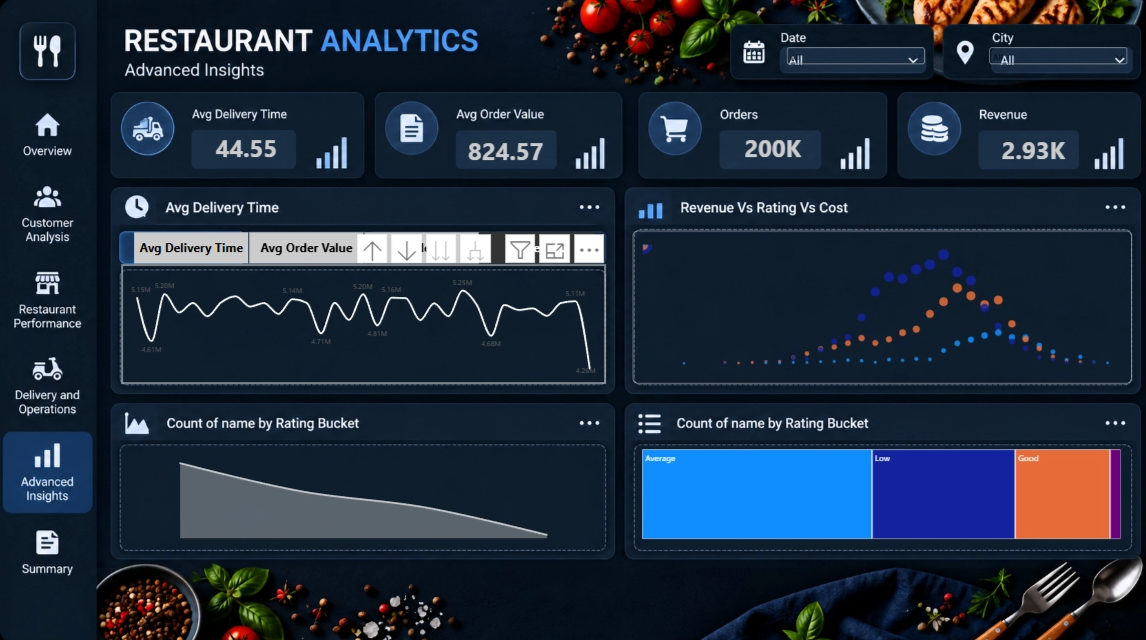

The page's visual inventory and layout, read from the dashboard file:
{"tool":"powerbi","page":{"name":"ADVANCED INSIGHTS","canvas":[1920,1080],"ordinal":4},"visuals":[{"type":"slicer","fields":{"Values":["KPI.KPI NAME"]},"box":[204.2,389.6,806.2,56.2],"z":0},{"type":"lineChart","fields":{"Category":["DateTable.Date.Variation.Date Hierarchy.Year","DateTable.Date.Variation.Date Hierarchy.Month"],"Y":["Orders.Selected KPI Value"]},"box":[204.2,445.8,806.2,197.9],"z":1000},{"type":"scatterChart","title":"Revenue Vs Rating Vs Cost","fields":{"Series":["Restaurants.Cost Bucket"],"Size":["CountNonNull(Restaurants.CostForTwo)"],"X":["Restaurants.rate"],"Y":["Orders.Total Revenue"]},"box":[1056.2,389.6,831.2,254.2],"z":2000},{"type":"areaChart","fields":{"Category":["Restaurants.Rating Bucket"],"Y":["CountNonNull(Restaurants.name)"]},"box":[204.2,739.6,806.2,179.2],"z":3000},{"type":"treemap","fields":{"Group":["Restaurants.Rating Bucket"],"Values":["CountNonNull(Restaurants.name)"]},"box":[1056.2,739.6,829.2,179.2],"z":4000},{"type":"cardVisual","title":"Cancelled Orders","fields":{"Data":["Orders.Revenue per Restaurant"]},"box":[1645.8,218.8,156.2,70.8],"z":5000},{"type":"cardVisual","title":"Cancelled Orders","fields":{"Data":["Orders.Total Orders"]},"box":[1210.4,222.9,158.3,54.2],"z":6000},{"type":"cardVisual","title":"Cancelled Orders","fields":{"Data":["Orders.Avg Order Value"]},"box":[758.3,218.8,172.9,75],"z":7000},{"type":"cardVisual","title":"Cancelled Orders","fields":{"Data":["Orders.Avg Delivery Time"]},"box":[327.1,222.9,170.8,54.2],"z":8000},{"type":"slicer","title":"Order status breakdown","fields":{"Values":["Customers.FilterCity"]},"box":[1645.8,79.2,239.6,45.8],"z":9000},{"type":"slicer","title":"Order status breakdown","fields":{"Values":["DateTable.Date.Variation.Date Hierarchy.Year","DateTable.Date.Variation.Date Hierarchy.Quarter","DateTable.Date.Variation.Date Hierarchy.Month","DateTable.Date.Variation.Date Hierarchy.Day"]},"box":[1308.3,79.2,239.6,45.8],"z":10000}]}

Visuals, with their boxes on the page's 1920x1080 design canvas (x1, y1, x2, y2). These are canvas units, not pixel positions in the 1146x640 screenshot, which may show the page scaled, cropped or inside an application window:
slicer - KPI.KPI NAME: rect(204, 390, 1010, 446)
lineChart - DateTable.Date.Variation.Date Hierarchy.Year x DateTable.Date.Variation.Date Hierarchy.Month: rect(204, 446, 1010, 644)
"Revenue Vs Rating Vs Cost" scatterChart: rect(1056, 390, 1887, 644)
areaChart - Restaurants.Rating Bucket x CountNonNull(Restaurants.name): rect(204, 740, 1010, 919)
treemap - Restaurants.Rating Bucket x CountNonNull(Restaurants.name): rect(1056, 740, 1885, 919)
"Cancelled Orders" cardVisual: rect(1646, 219, 1802, 290)
"Cancelled Orders" cardVisual: rect(1210, 223, 1369, 277)
"Cancelled Orders" cardVisual: rect(758, 219, 931, 294)
"Cancelled Orders" cardVisual: rect(327, 223, 498, 277)
"Order status breakdown" slicer: rect(1646, 79, 1885, 125)
"Order status breakdown" slicer: rect(1308, 79, 1548, 125)
